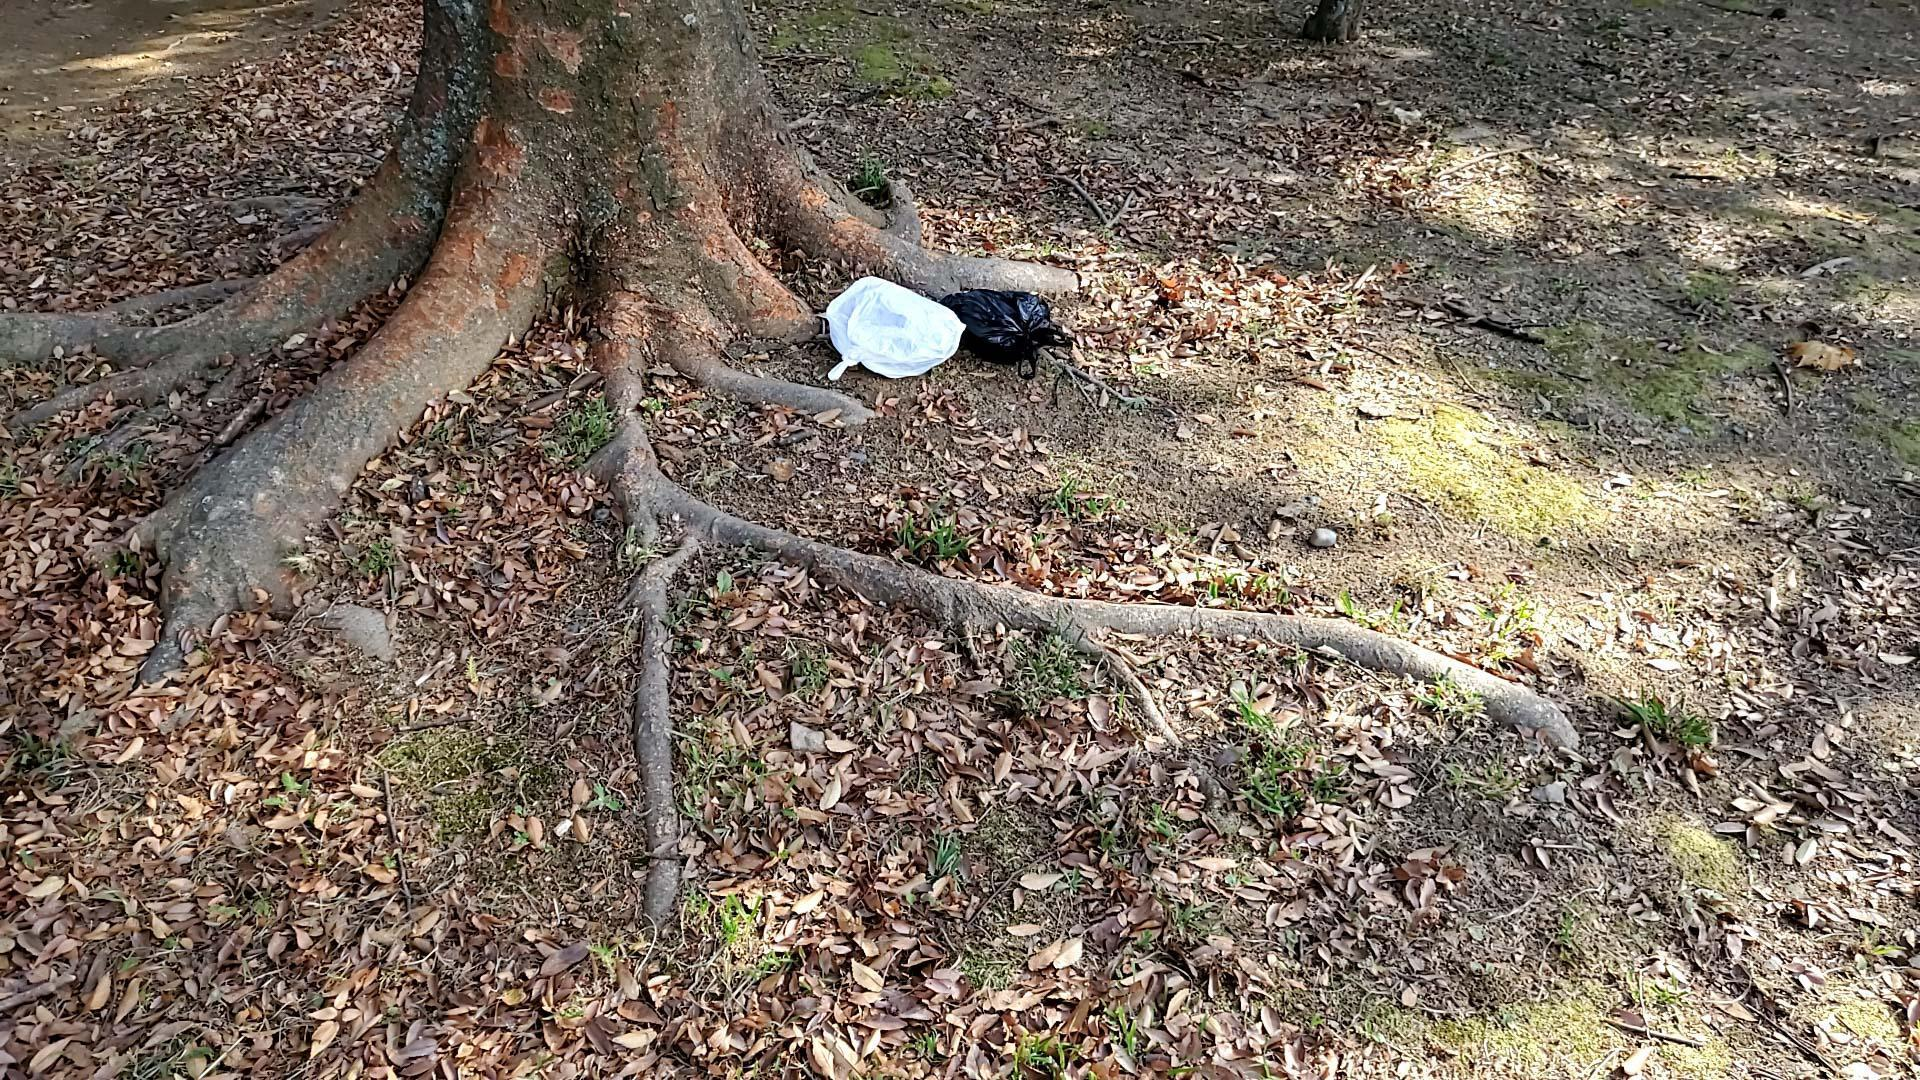black_bag: (938, 281, 1076, 382)
white_bag: (812, 274, 968, 392)
